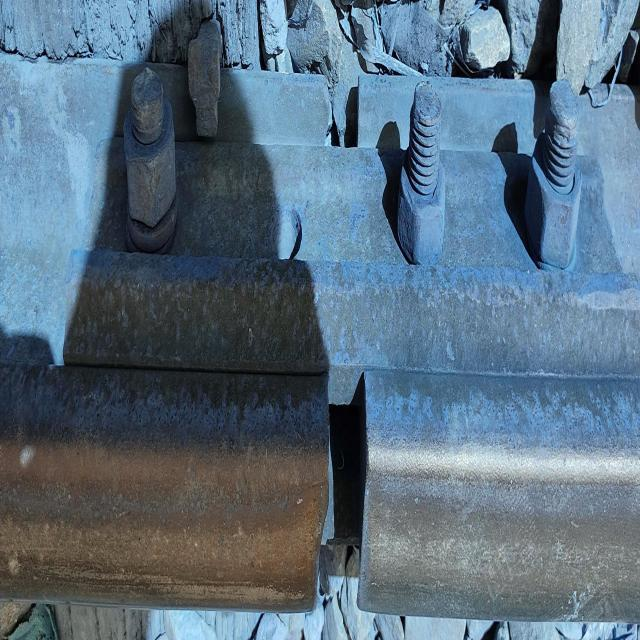Defective Joint: (63, 80, 640, 367)
